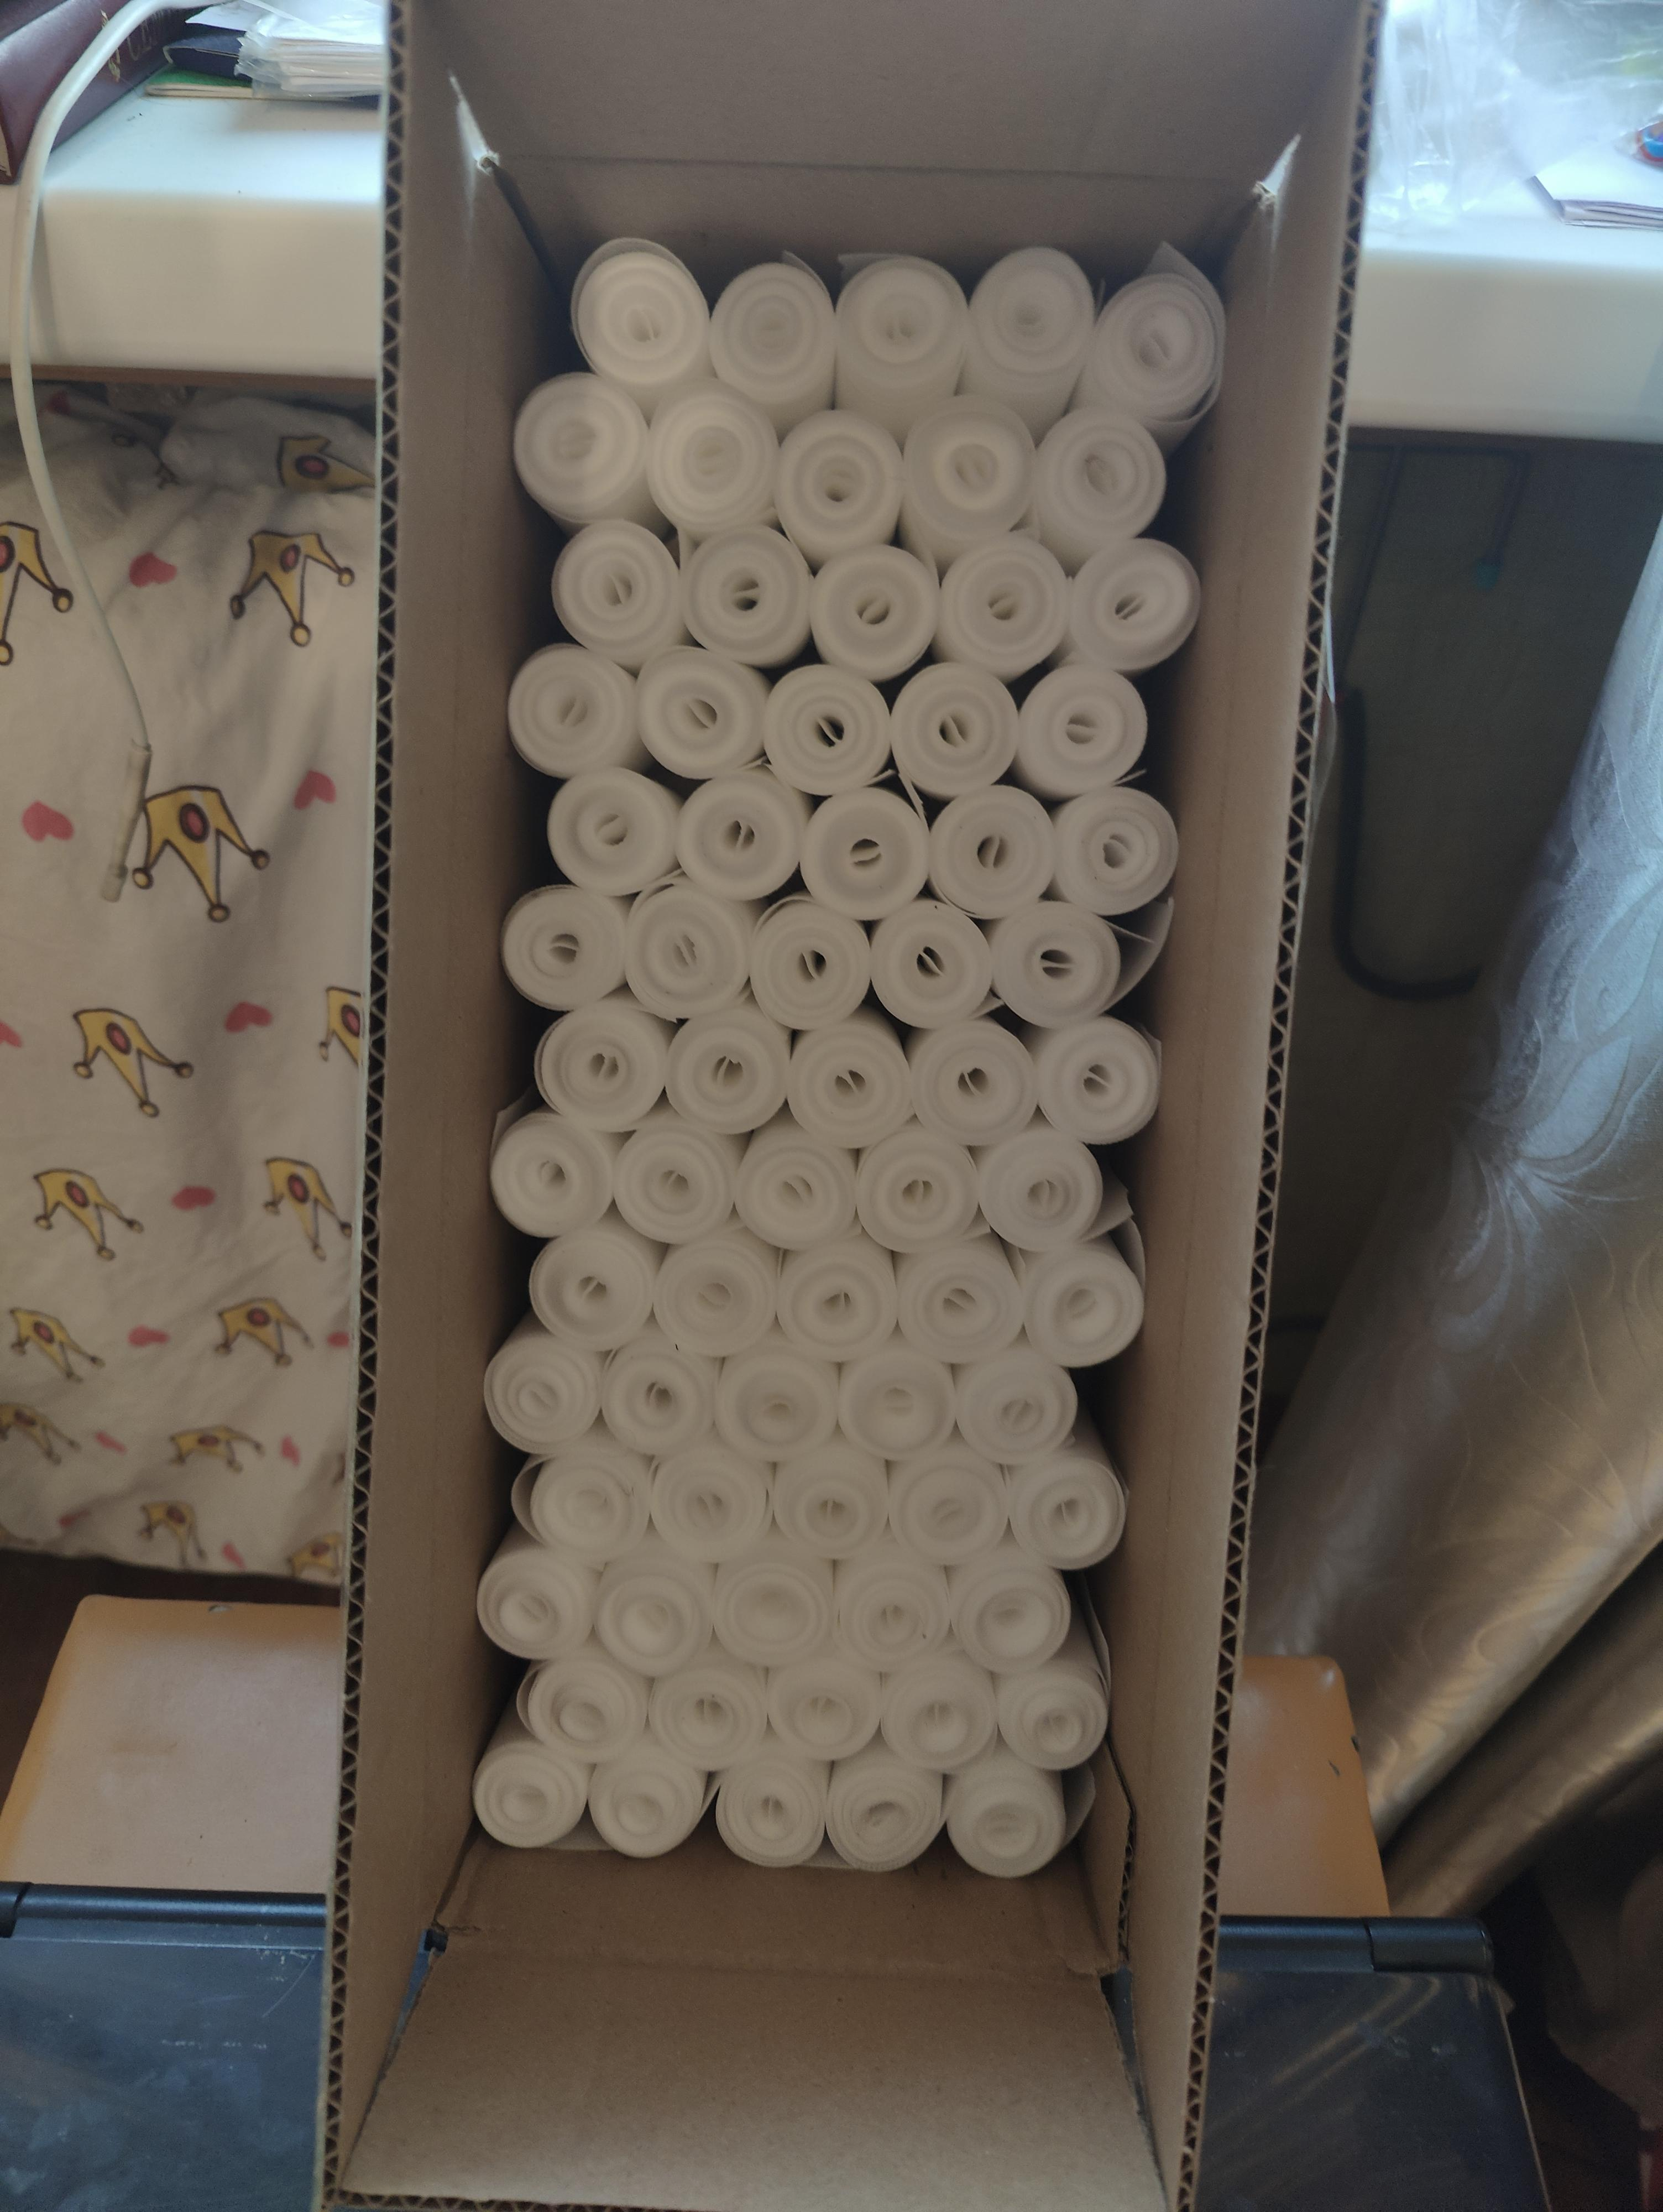roll: (964, 243, 1095, 442), (571, 236, 713, 418), (1080, 269, 1218, 454), (833, 253, 966, 440), (706, 255, 838, 433), (512, 370, 653, 535), (1027, 407, 1165, 573), (645, 383, 786, 543), (901, 407, 1039, 571), (933, 536, 1073, 685), (547, 517, 683, 666), (772, 411, 905, 563), (889, 657, 1027, 802), (678, 524, 812, 671), (1013, 660, 1153, 800), (634, 646, 777, 783), (805, 545, 940, 688), (507, 641, 646, 778), (1062, 536, 1197, 678), (926, 785, 1060, 924), (625, 877, 760, 1017), (543, 764, 685, 896), (1046, 783, 1179, 923), (531, 998, 671, 1129), (673, 767, 809, 900), (798, 786, 931, 923), (891, 1235, 1024, 1370), (985, 898, 1120, 1029), (498, 881, 632, 1012), (971, 1125, 1106, 1256), (1018, 1242, 1148, 1379), (942, 1744, 1071, 1880), (748, 896, 877, 1031), (482, 1319, 613, 1450), (1003, 1440, 1132, 1573), (1027, 1015, 1162, 1143), (611, 1118, 742, 1248), (528, 1221, 659, 1351), (648, 1230, 781, 1358), (664, 999, 793, 1129), (786, 1015, 915, 1144), (770, 1234, 900, 1363), (592, 1545, 720, 1676), (866, 898, 994, 1027), (903, 1017, 1032, 1144), (487, 1108, 618, 1234), (952, 1344, 1081, 1469), (473, 1538, 599, 1667), (854, 1125, 982, 1249), (947, 1548, 1071, 1676), (711, 1744, 835, 1871), (823, 1744, 943, 1875), (732, 1123, 858, 1248), (522, 1440, 650, 1562), (831, 1532, 952, 1660), (646, 1440, 770, 1562), (767, 666, 887, 791), (716, 1344, 842, 1464), (585, 1740, 711, 1861), (880, 1651, 1001, 1775), (992, 1653, 1113, 1775), (470, 1732, 592, 1852), (597, 1331, 716, 1455), (711, 1546, 835, 1665), (522, 1648, 650, 1763), (833, 1344, 956, 1462), (889, 1452, 1010, 1571), (769, 1447, 889, 1566), (648, 1656, 772, 1772), (763, 1651, 884, 1763)
